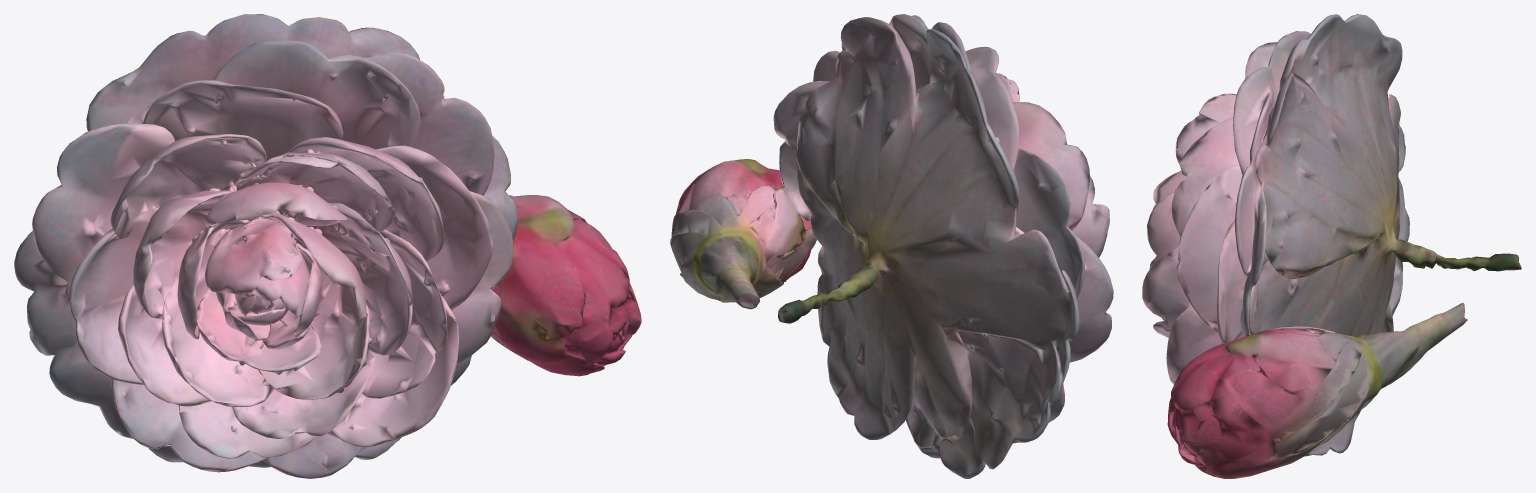
File: pink_camellia.glb
3 views of the same model, side by side, from view 1: azimuth 30°, elevation 25°; view 2: azimuth 150°, elevation 25°; view 3: azimuth 270°, elevation 25° (orthographic). The views are drawn at different scales.
Size of the model in its own units: 1.9 by 1.62 by 1.37.
Materials: 1 (1 with a texture image).
